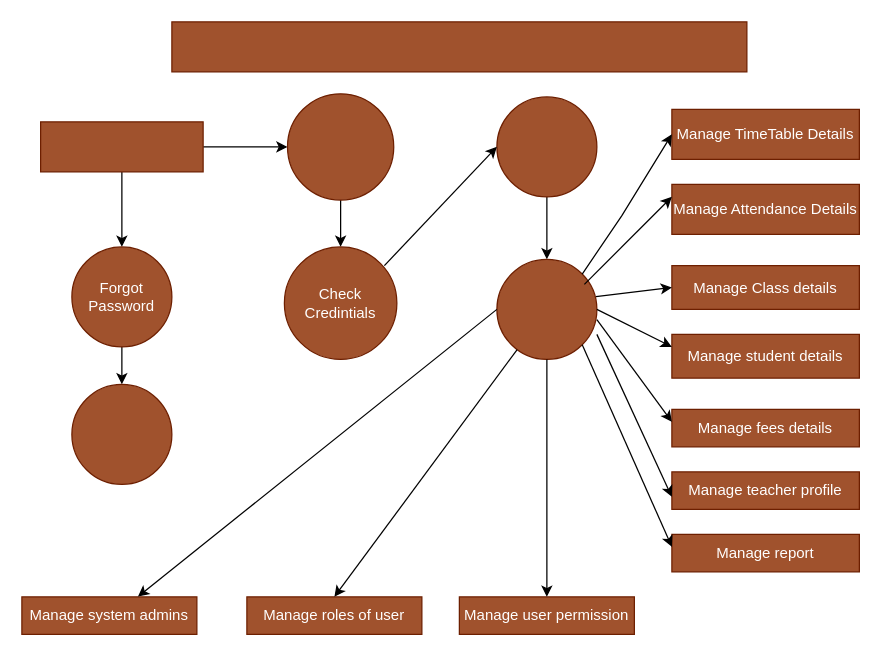
Some shapes in this 881 by 656 pixel diagram are drawn without their labels. The shapes that lost their labels are listed below. From the top down, each one's box as (x1, y1, x2, y2) in pixels, then its label:
(171, 21, 747, 72): Student Information System
(39, 121, 203, 172): Admin
(286, 92, 394, 200): Login to system
(496, 96, 597, 197): Check roles of Access
(496, 258, 597, 359): Manage Modules
(71, 383, 172, 484): Send email to user
